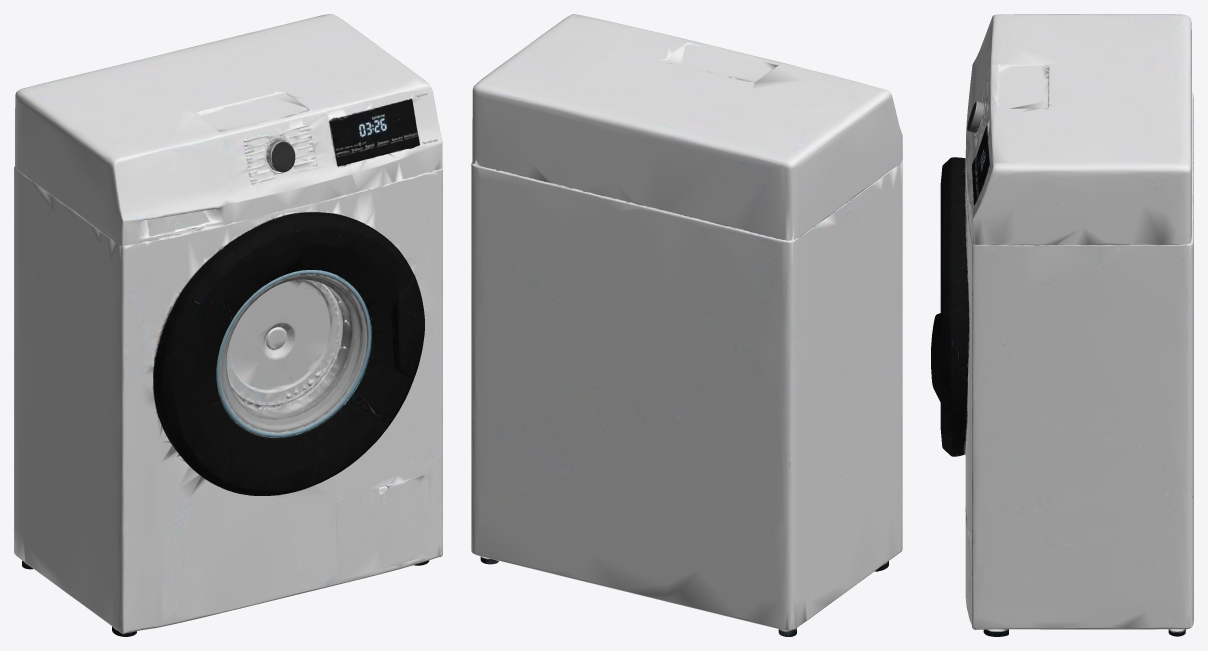
Rendered from waschmaschine-01.glb.
3 views of the same model, side by side, from view 1: azimuth 30°, elevation 25°; view 2: azimuth 150°, elevation 25°; view 3: azimuth 270°, elevation 25° (orthographic).
Bounding box in the file's own units: 1.35 × 1.9 × 0.9592.
1 material, 1 textured.
